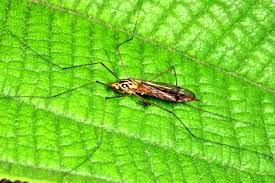Helopeltis-insect: (102, 63, 199, 113)
